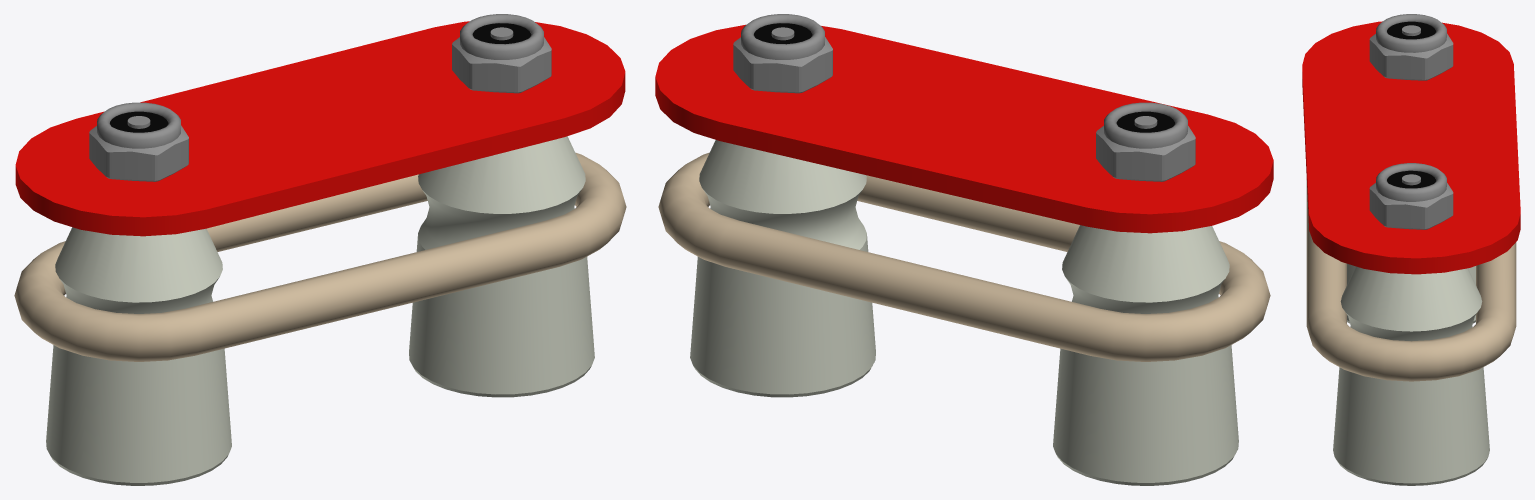
The model's file is separator.fbx.
3 renders of one model, left to right at view 1: azimuth 30°, elevation 25°; view 2: azimuth 150°, elevation 25°; view 3: azimuth 270°, elevation 25°, orthographic. The views are drawn at different scales.
Visible parts, largest first — view 1: separator 3; view 2: separator 3; view 3: separator 3.
Boxes of the visible parts, x1,y1,x2,y2 form: separator 3: (14,14,626,485); separator 3: (655,14,1273,485); separator 3: (1302,14,1520,485).
Size of the model in its own units: 0.064 by 0.0346 by 0.0248.
